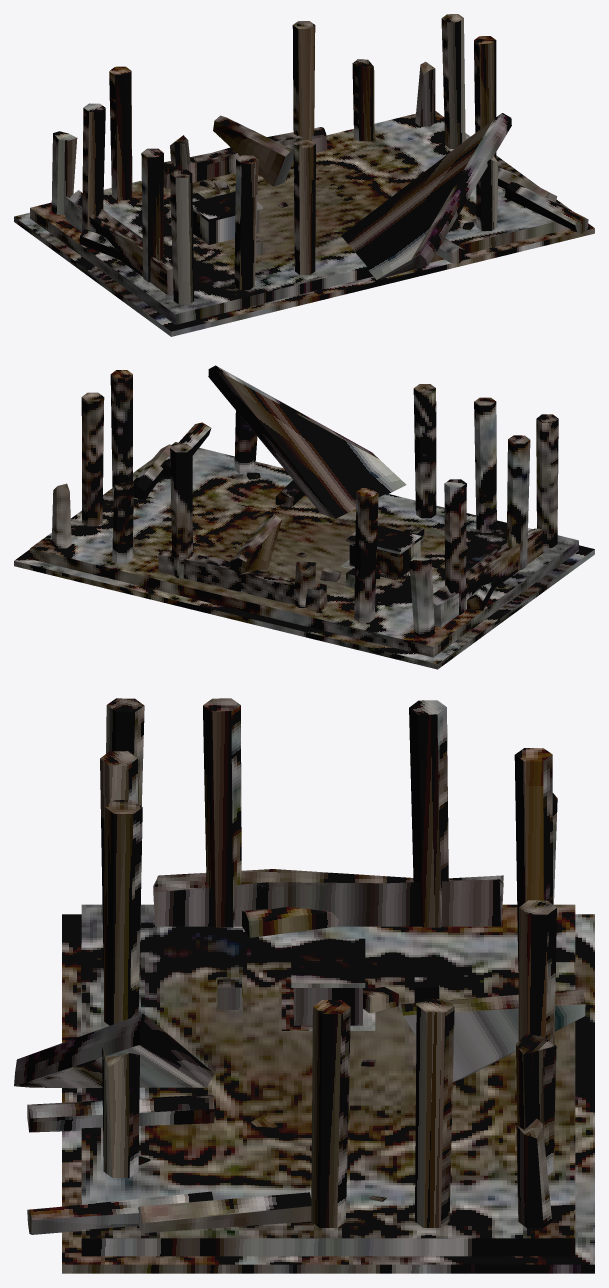
The model's file is cultist_temple2.glb.
3 views of the same model, one above another, from view 1: azimuth 30°, elevation 25°; view 2: azimuth 150°, elevation 25°; view 3: azimuth 270°, elevation 25° (orthographic). The views are drawn at different scales.
Parts seen in each view (by area): view 1: OpenAirTemple-col; view 2: OpenAirTemple-col; view 3: OpenAirTemple-col.
Part boxes in pixels (left/top/right/bottom): OpenAirTemple-col: left=14, top=14, right=594, bottom=336; OpenAirTemple-col: left=14, top=365, right=594, bottom=669; OpenAirTemple-col: left=14, top=698, right=594, bottom=1273.
Size of the model in its own units: 16.8 by 5.41 by 11.77.
1 material, 1 textured.
